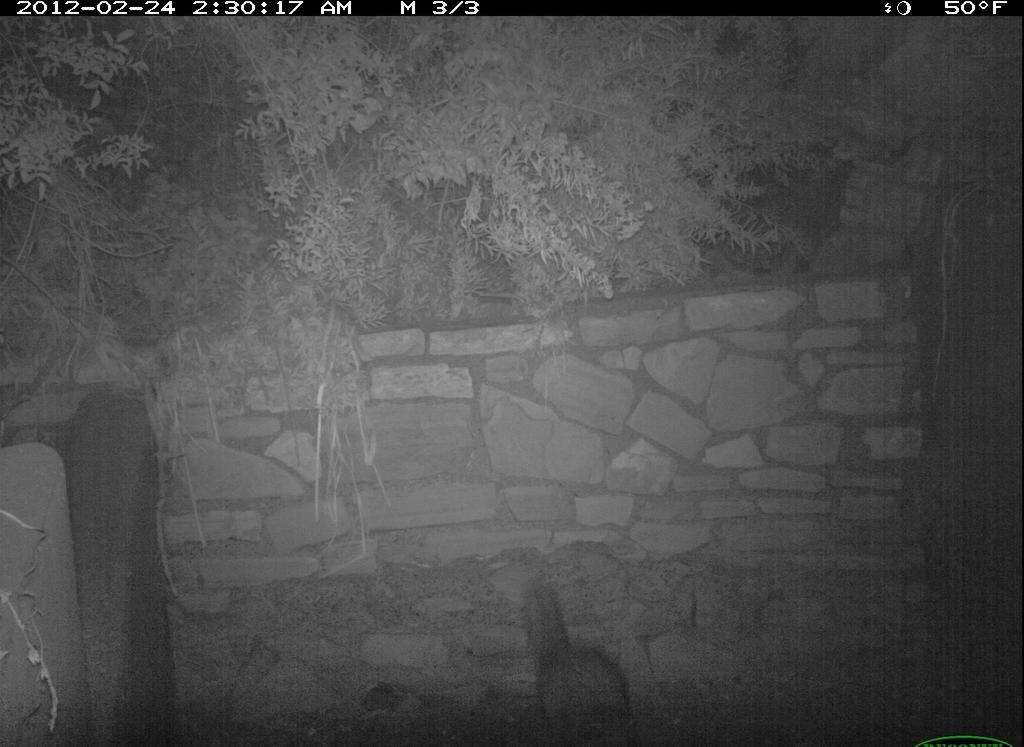raccoon: (504, 569, 670, 747)
